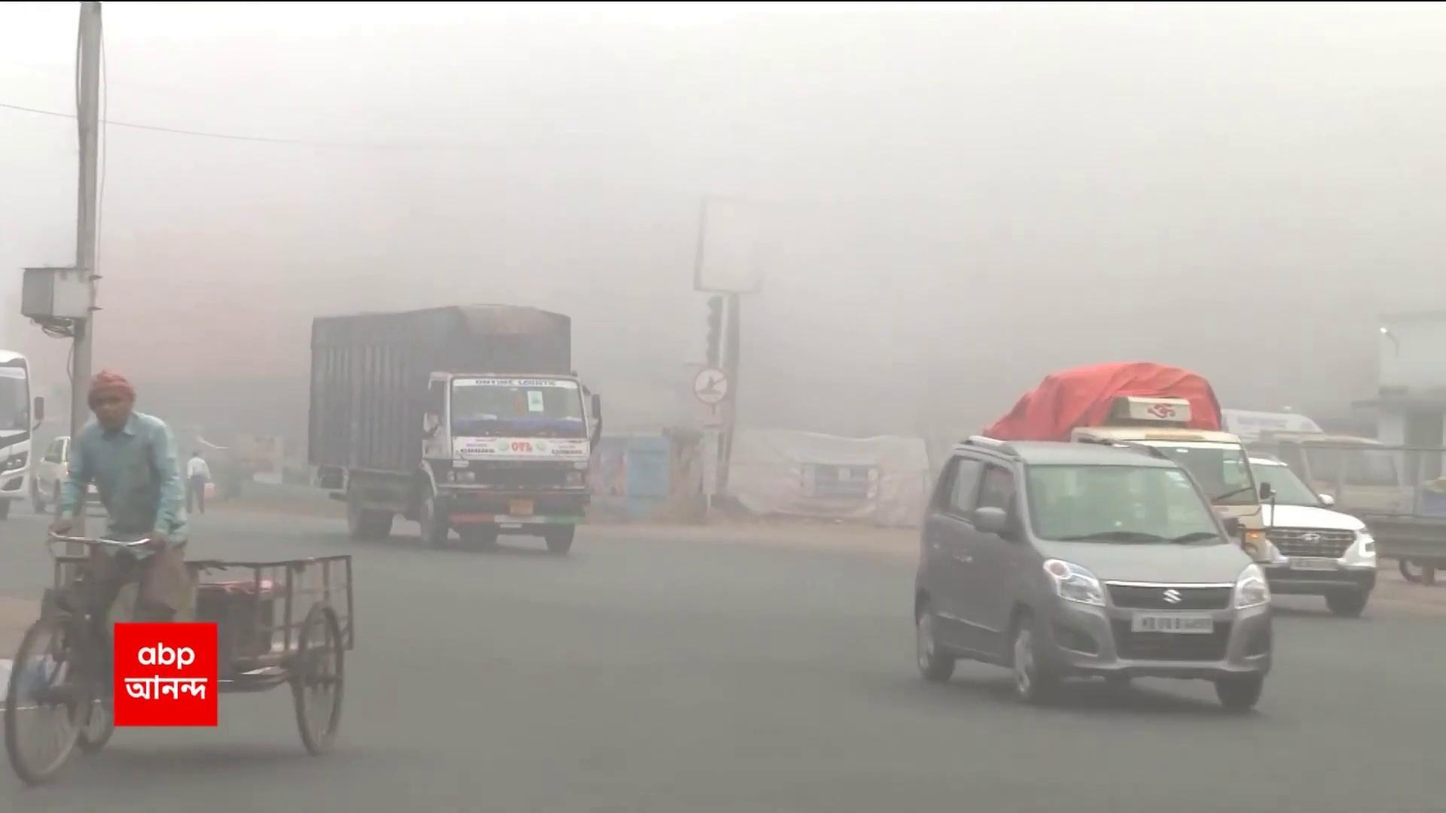Car: (914, 432, 1274, 713)
Truck: (305, 301, 604, 555)
